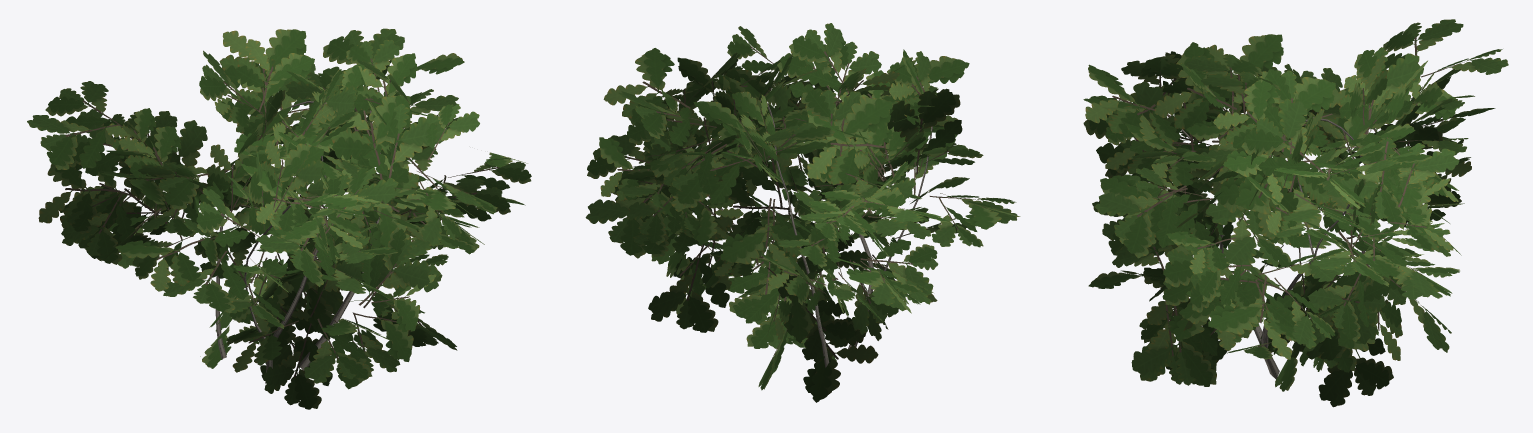
The model's file is bush_02.glb.
3 views of the same model, side by side, from view 1: azimuth 30°, elevation 25°; view 2: azimuth 150°, elevation 25°; view 3: azimuth 270°, elevation 25° (orthographic). The views are drawn at different scales.
Parts seen in each view (by area): view 1: gambel_oak_LOD0; view 2: gambel_oak_LOD0; view 3: gambel_oak_LOD0.
Boxes of the visible parts, <box> form: gambel_oak_LOD0: <box>27,28,531,409</box>; gambel_oak_LOD0: <box>585,23,1020,402</box>; gambel_oak_LOD0: <box>1083,19,1508,407</box>.
Bounding box in the file's own units: 1.09 × 0.867 × 0.9602.
2 materials, 2 textured.
